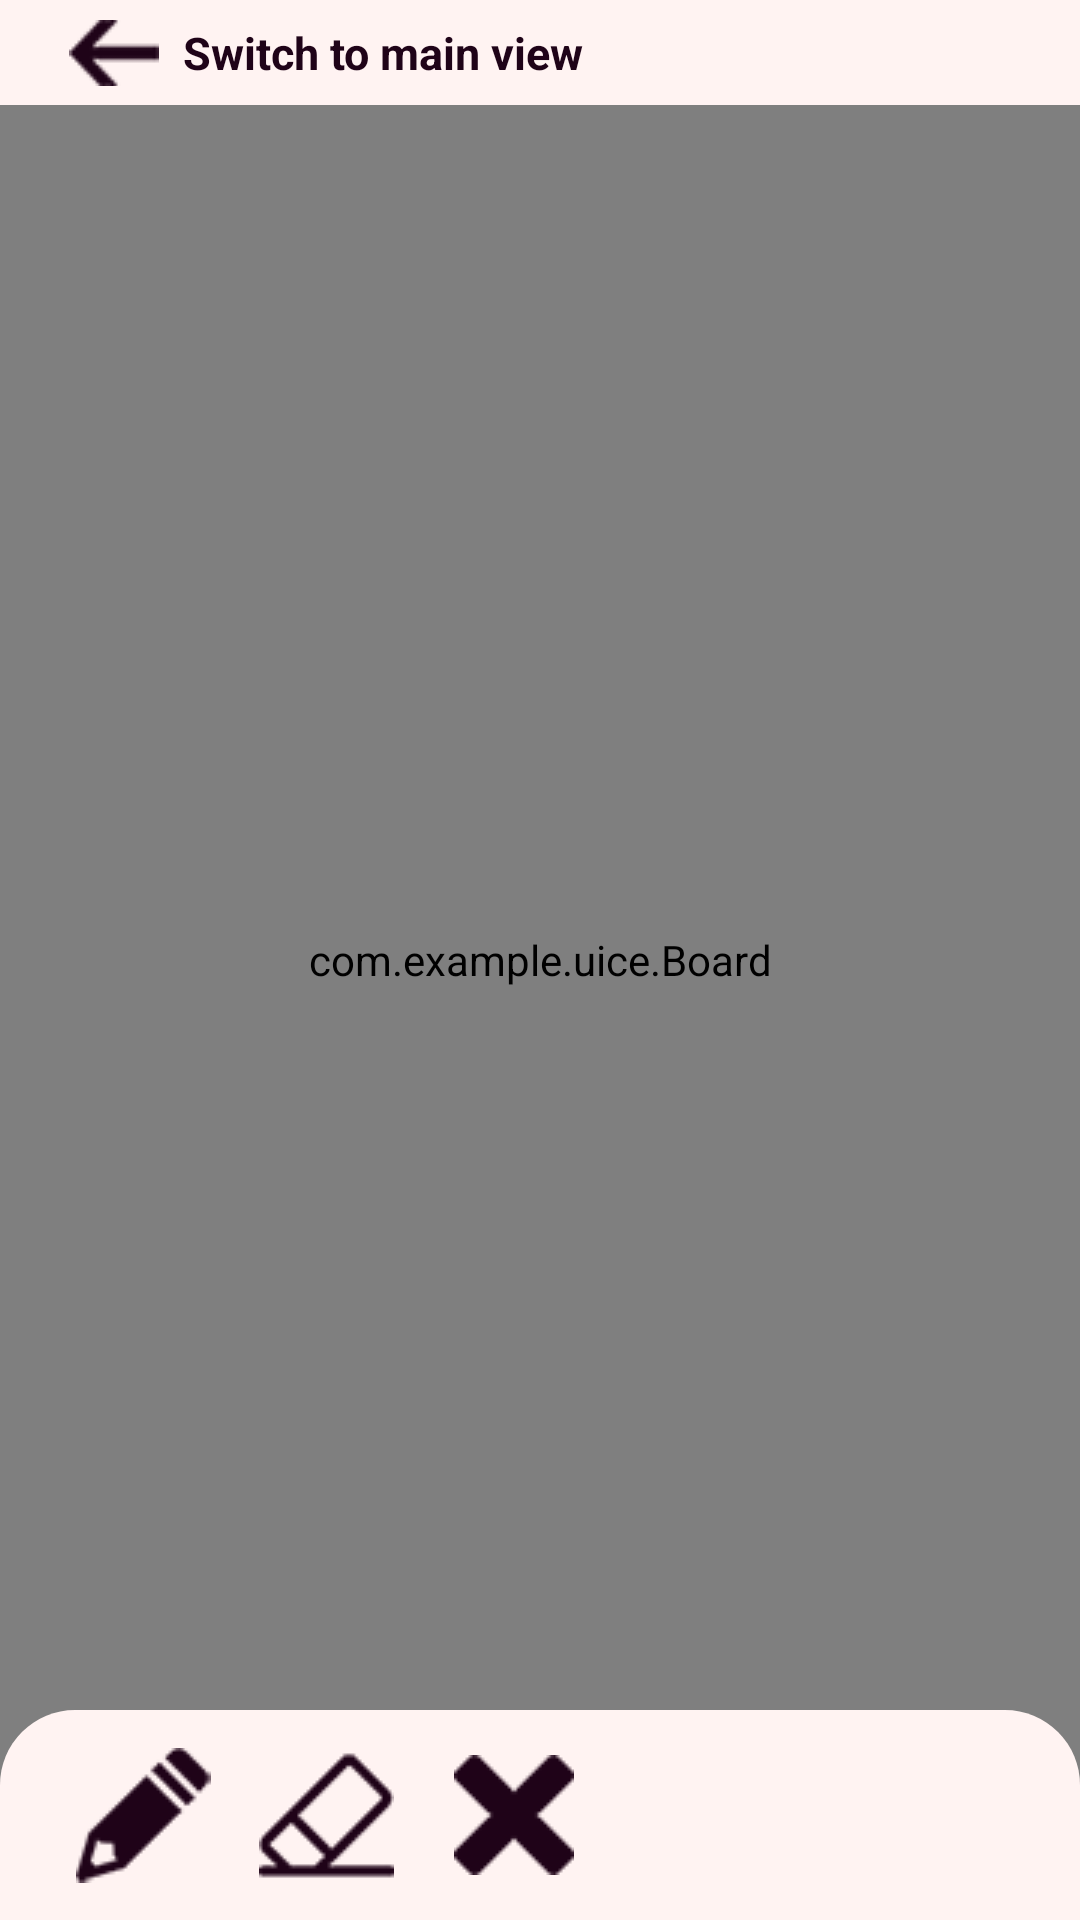

Icon click points for this 1080px×1920px phone screenshot, format point (x, y):
back: point (114, 53)
Cancel: point (514, 1815)
eraser: point (326, 1815)
pen: point (143, 1815)
